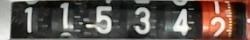digits: (132, 6, 150, 34), (172, 8, 190, 35), (96, 6, 112, 34), (210, 16, 226, 40), (59, 1, 69, 28), (24, 6, 32, 32)
